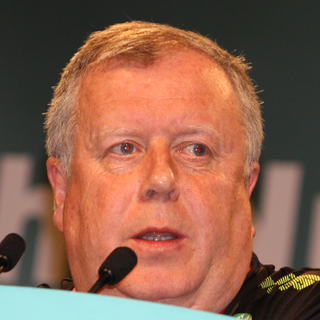eye: (101, 138, 145, 159), (173, 139, 213, 161)
